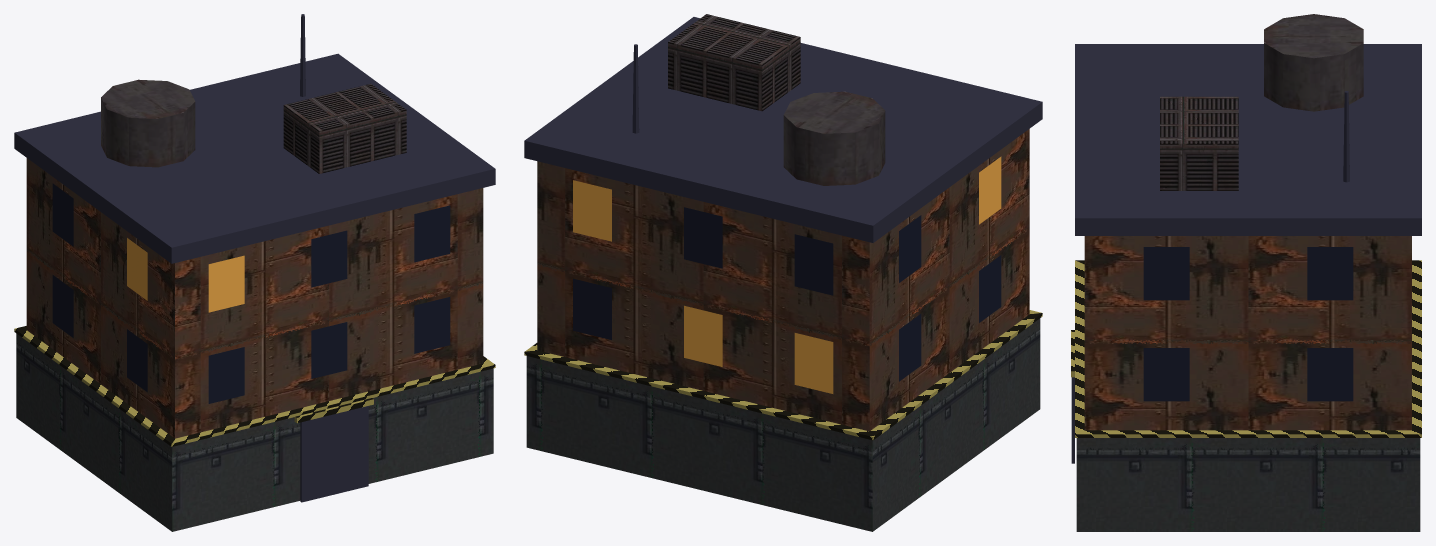
The model's file is prop_building_10m.glb.
3 renders of one model, left to right at view 1: azimuth 30°, elevation 25°; view 2: azimuth 150°, elevation 25°; view 3: azimuth 270°, elevation 25°, orthographic. The views are drawn at different scales.
Parts seen in each view (by area): view 1: prop_building_10m; view 2: prop_building_10m; view 3: prop_building_10m.
Boxes of the visible parts, x1,y1,x2,y2 form: prop_building_10m: (14,14,495,531); prop_building_10m: (524,14,1042,531); prop_building_10m: (1071,14,1421,531).
Size of the model in its own units: 12.6 by 13.6 by 10.72.
8 materials, 5 textured.
